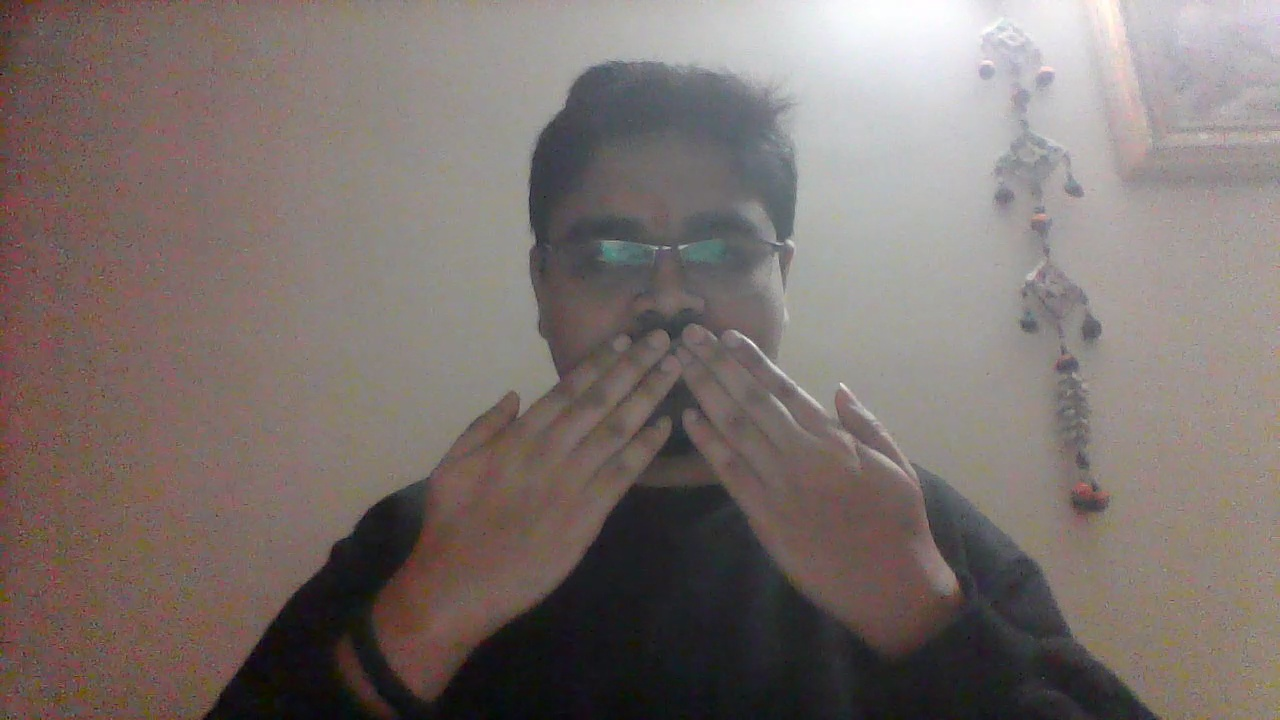Thanks: (417, 318, 932, 627)
